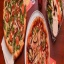pizza: (3, 1, 24, 55), (27, 17, 48, 64)
